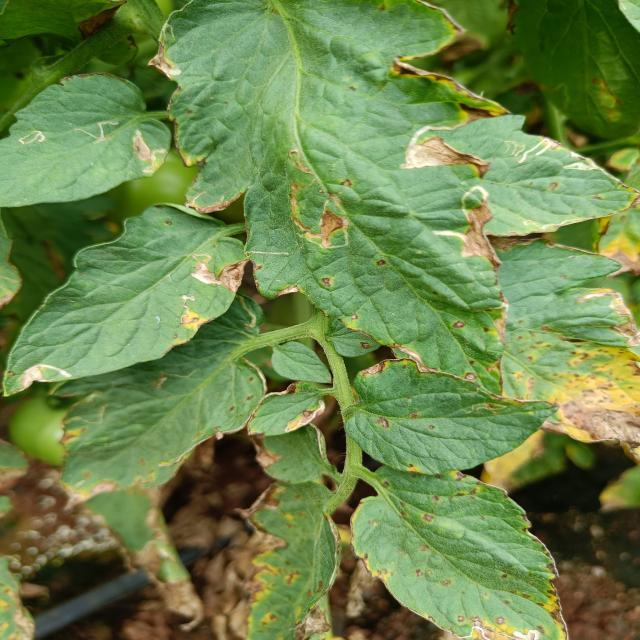Tomato mosaic virus leaf: (304, 252, 512, 399), (342, 401, 462, 476), (243, 381, 325, 436)
